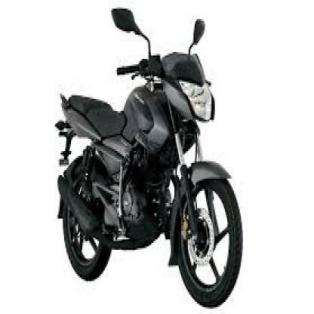Motocicleta: (45, 3, 244, 309)
